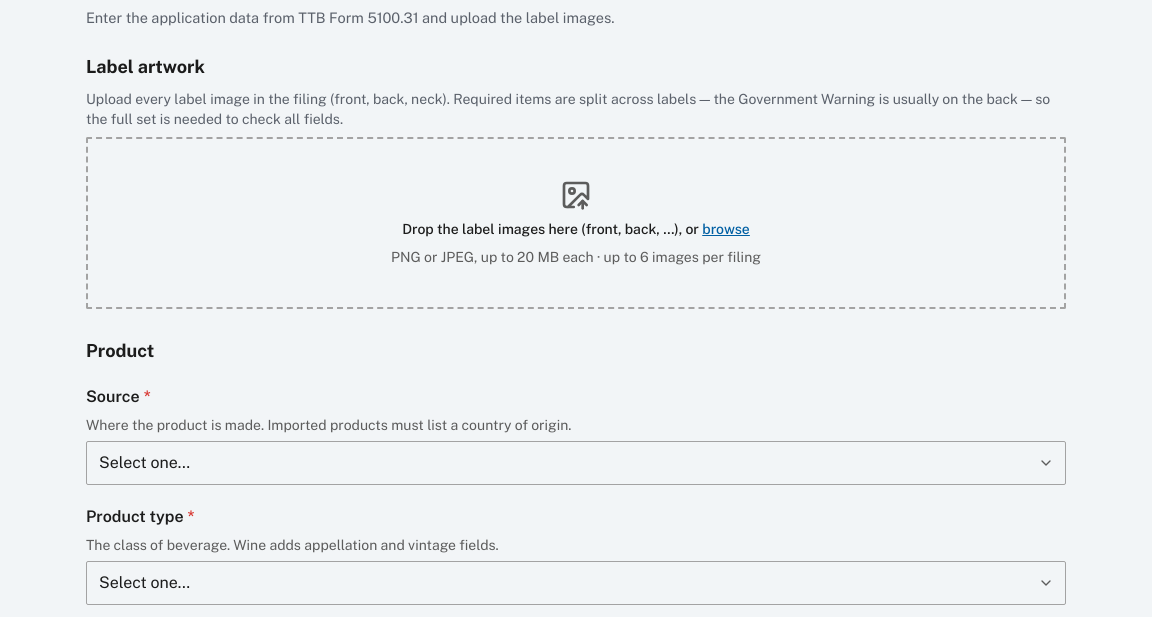
Scenario: VerifyPage flow › blocks submit and explains when no label image is attached
Select "Domestic (made in the U.S.)" in the dropdown labelled "Source*" at point(576, 463), box [86,441,1066,485]
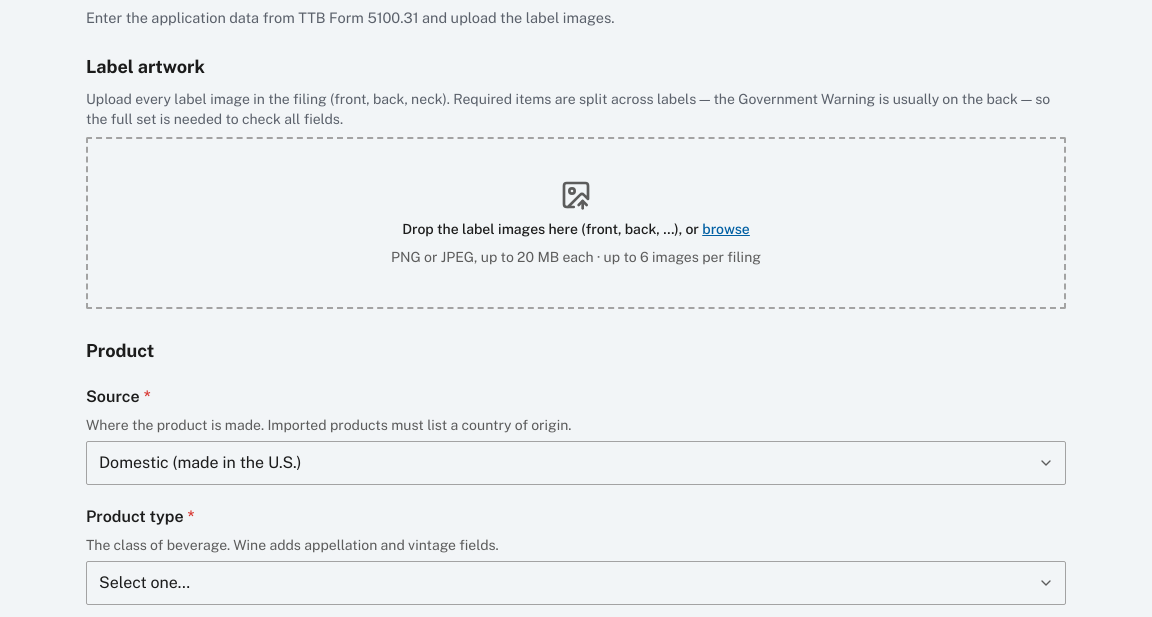
Select "Distilled spirits" in the dropdown labelled "Product type*" at point(576, 583), box [86,561,1066,605]
(page scrolled)
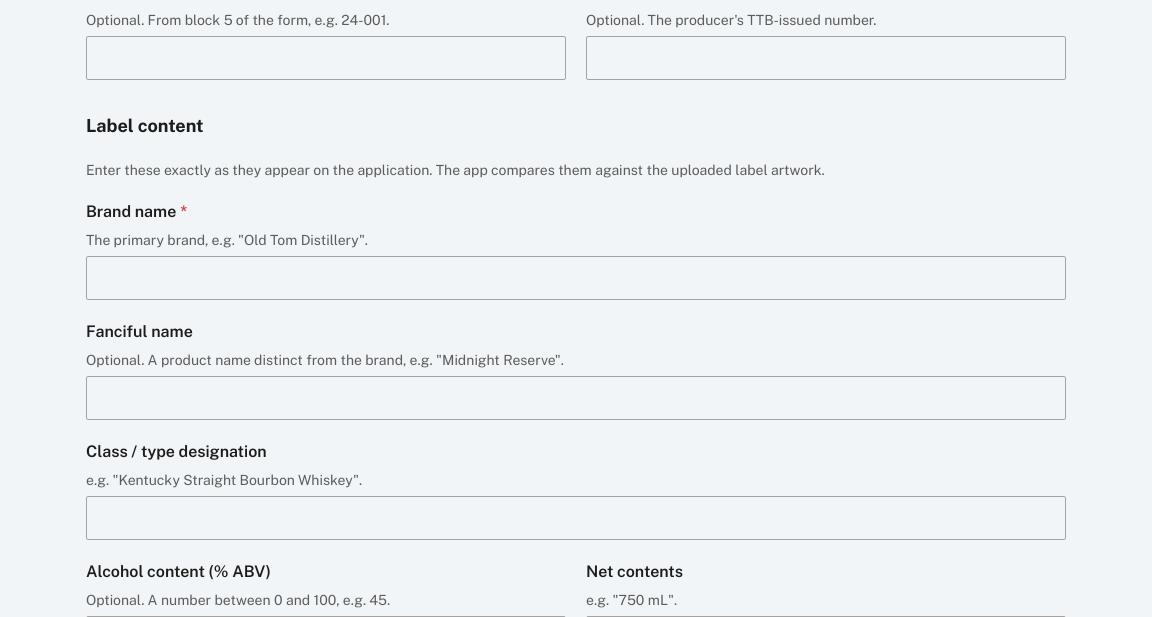
Type "Stone's Throw" into the field labelled "Brand name*" at point(576, 278), box [86,256,1066,300]
(page scrolled)
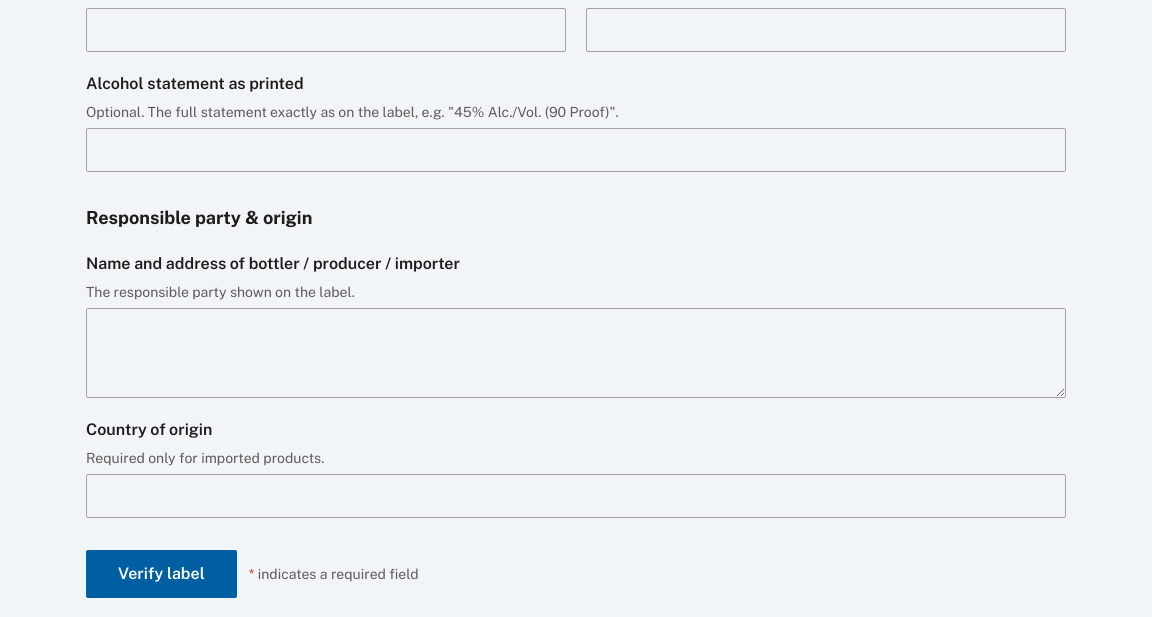
Click the button "Verify label" at point(161, 574), box [86,550,237,598]
(page scrolled)
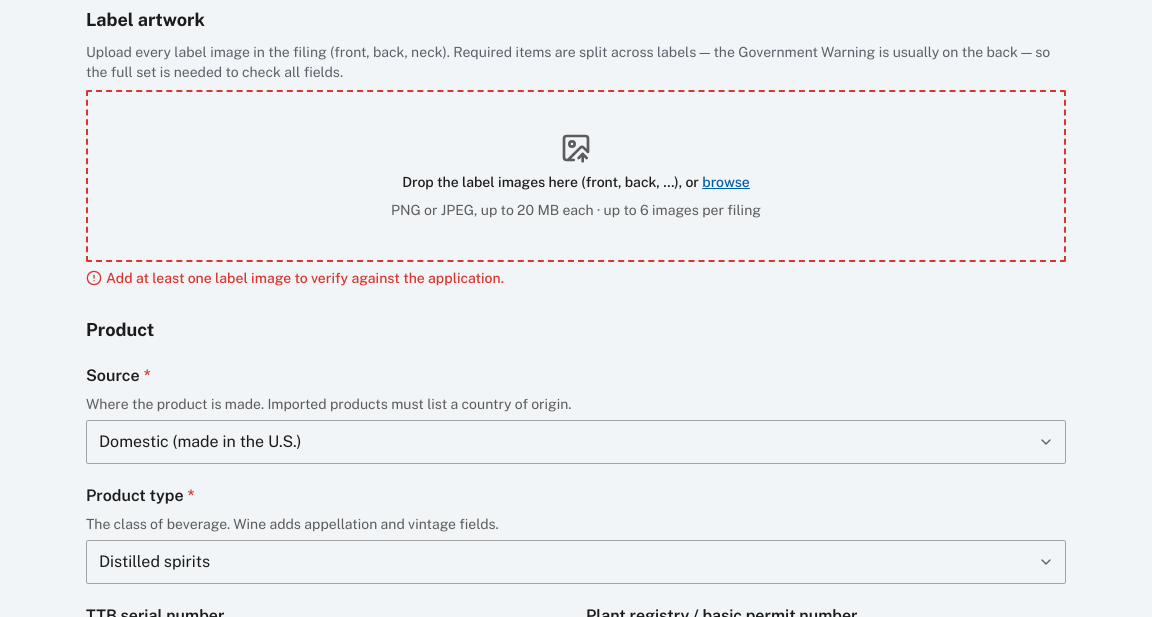
Result: the text "Add at least one label image to verify against the application." is shown at [86,270,504,286]
